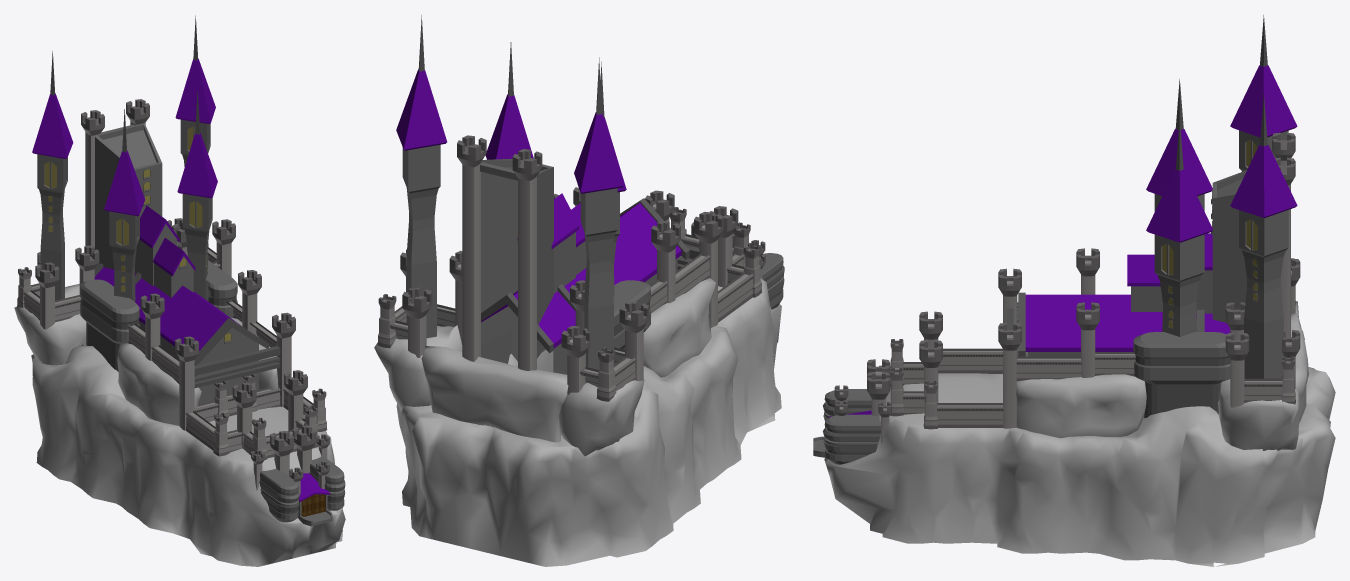
Rendered from Castle Remade.fbx.
3 renders of one model, left to right at view 1: azimuth 30°, elevation 25°; view 2: azimuth 150°, elevation 25°; view 3: azimuth 270°, elevation 25°, orthographic. The views are drawn at different scales.
Visible parts, largest first — view 1: Castle_Remake_LOD0; view 2: Castle_Remake_LOD0; view 3: Castle_Remake_LOD0.
Boxes of the visible parts, left/top/right/bottom form: Castle_Remake_LOD0: left=14, top=15, right=345, bottom=566; Castle_Remake_LOD0: left=374, top=15, right=784, bottom=566; Castle_Remake_LOD0: left=813, top=15, right=1335, bottom=566.
Size of what is drawn, in the model's own units: 424 by 794 by 826.
Materials: 4 (3 with a texture image).
